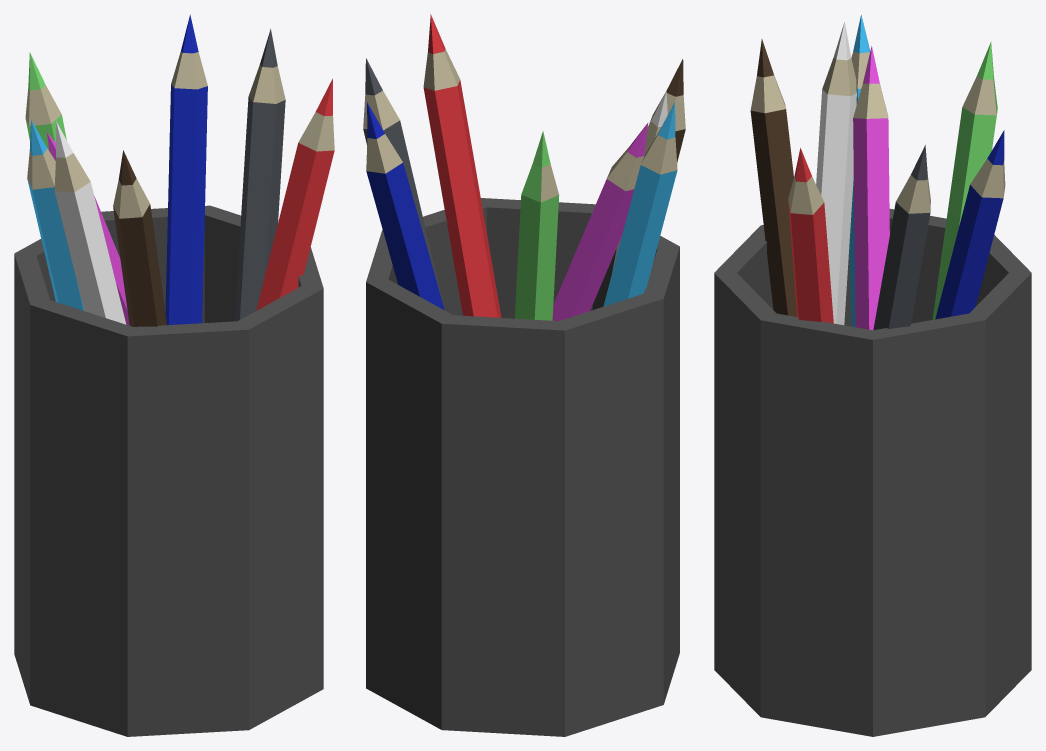
File: Pen holder.fbx
The picture shows the model from 3 angles, left to right: view 1: azimuth 30°, elevation 25°; view 2: azimuth 150°, elevation 25°; view 3: azimuth 270°, elevation 25°; orthographic projection. The views are drawn at different scales.
Parts seen in each view (by area): view 1: Cylinder; view 2: Cylinder; view 3: Cylinder.
Part boxes in pixels (left/top/right/bottom): Cylinder: left=14, top=14, right=334, bottom=736; Cylinder: left=363, top=14, right=685, bottom=736; Cylinder: left=714, top=15, right=1031, bottom=736.
Size of the model in its own units: 9.08 by 18.24 by 8.9.
